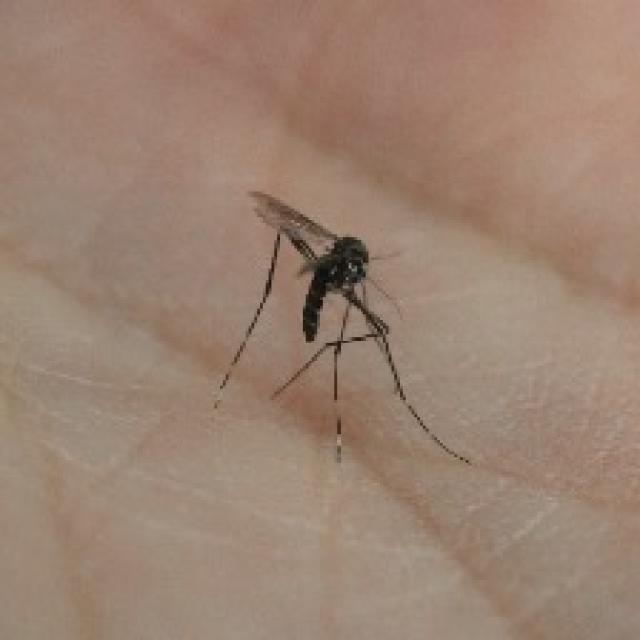aedes: (208, 185, 472, 466)
